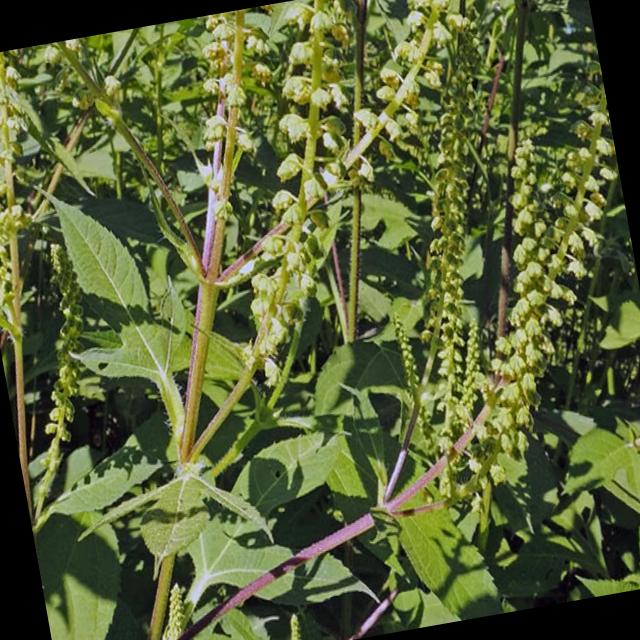ambrosia: (182, 0, 506, 397), (464, 43, 640, 414)
